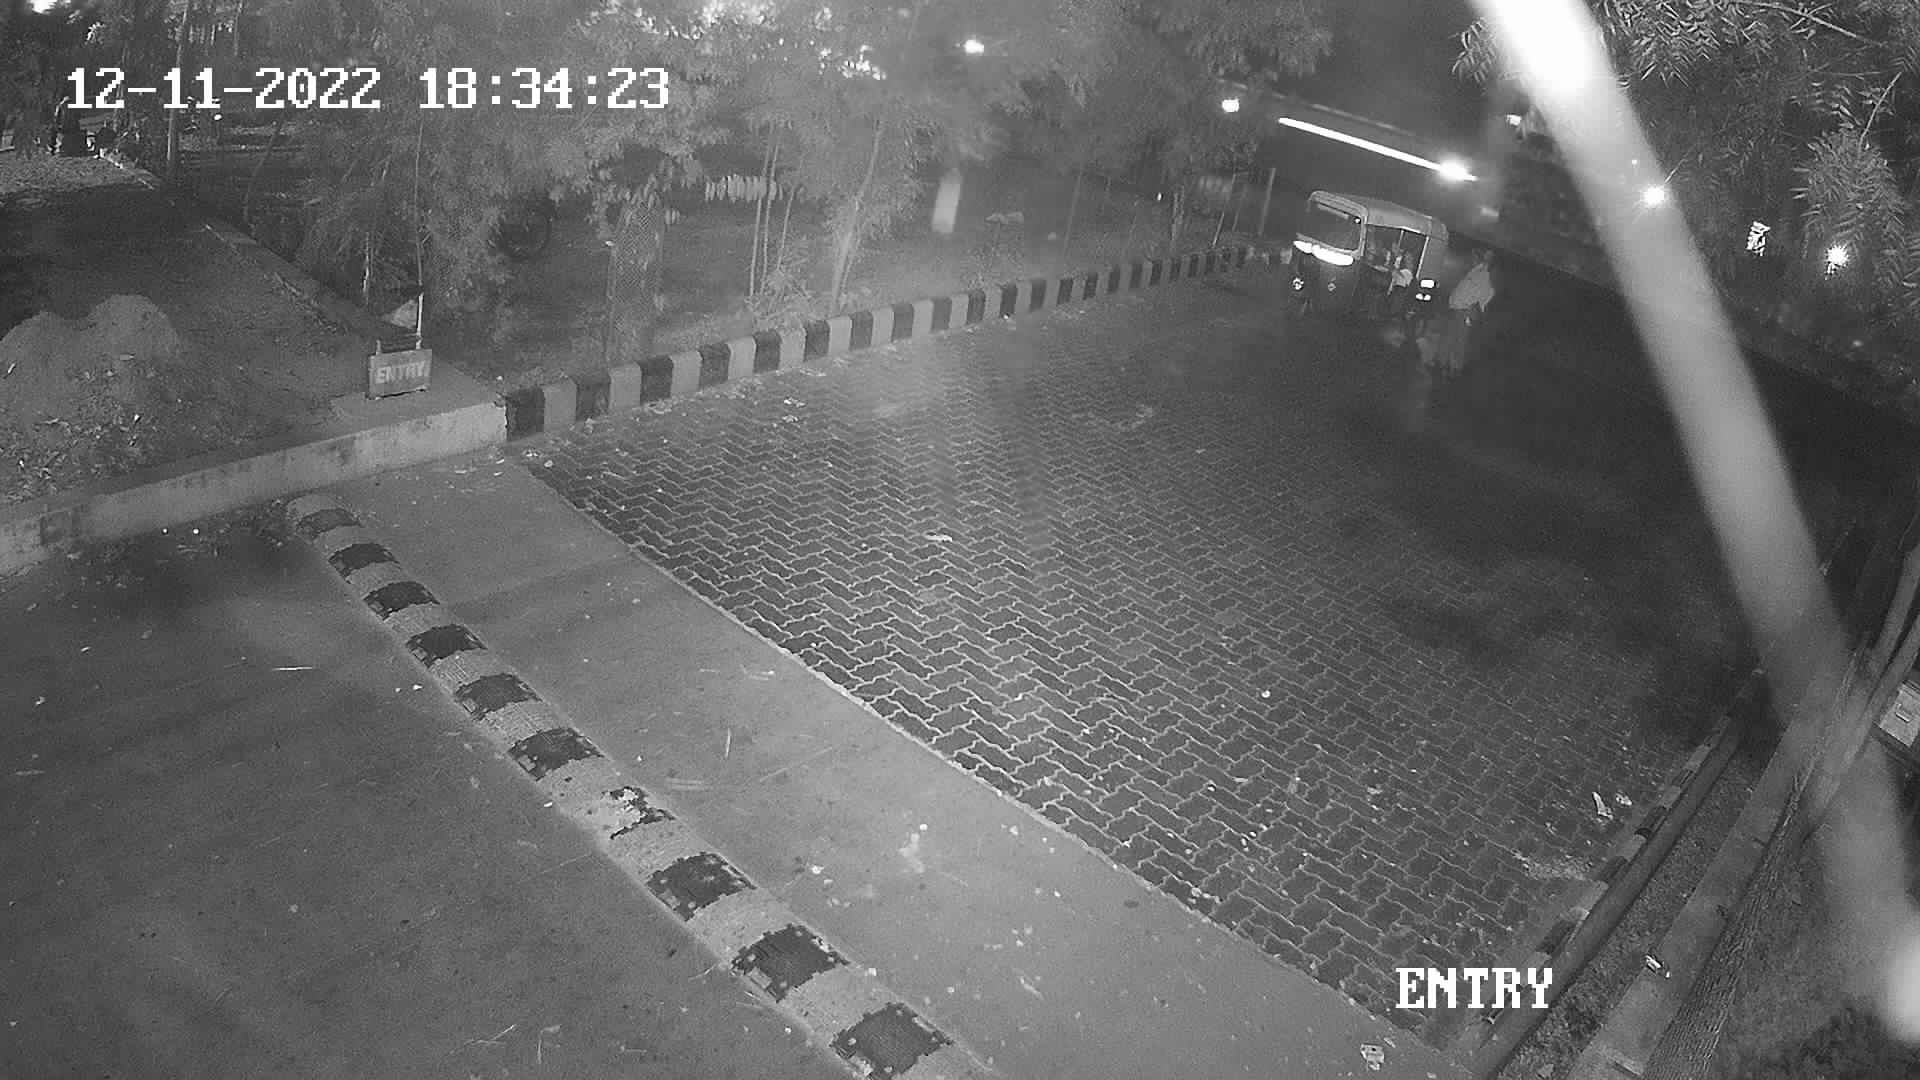Auto: (1261, 177, 1470, 353)
